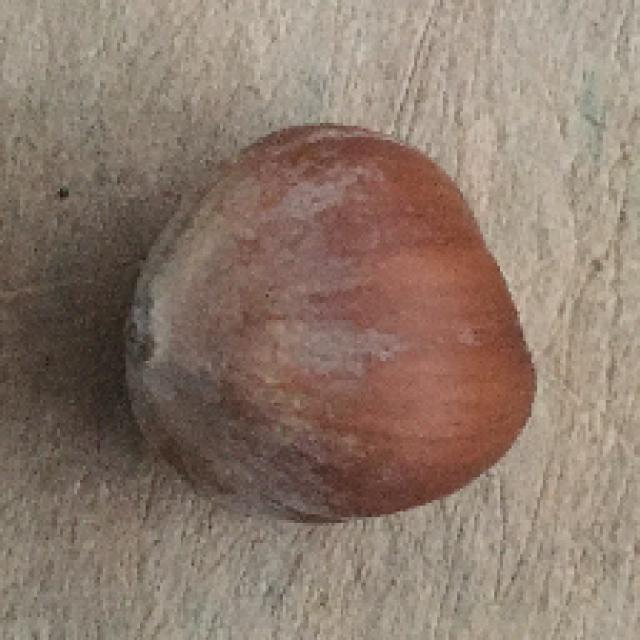qualityHazelnut: (127, 126, 538, 532)
